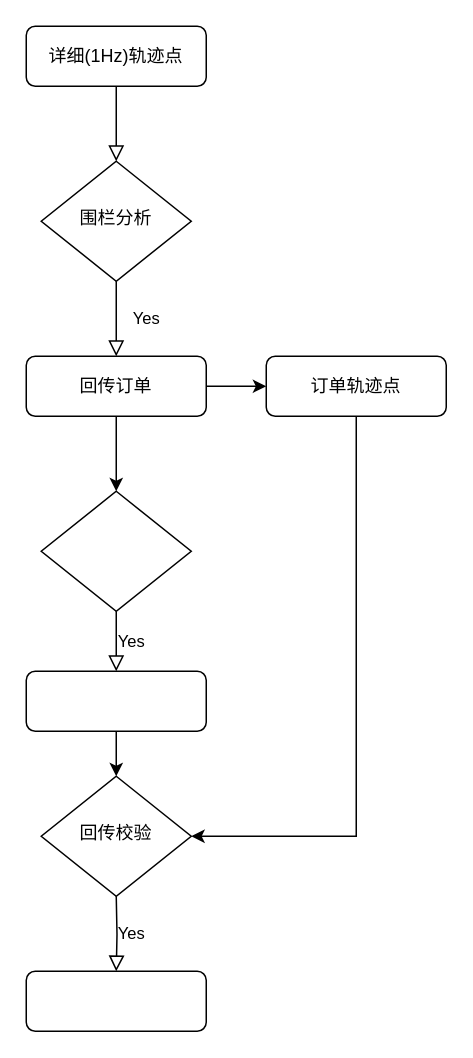
This 473x1058 diagram has some shape labels left out. The shapes that lost their labels are listed below. From the top down, each one's centre as x and y in pixels, then its label:
At pixel 115 550: "下发回传订单".
At pixel 115 700: "回传图片".
At pixel 115 1000: "回图成功".
